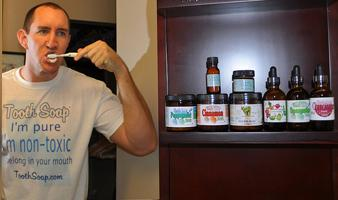person: (1, 1, 158, 200)
